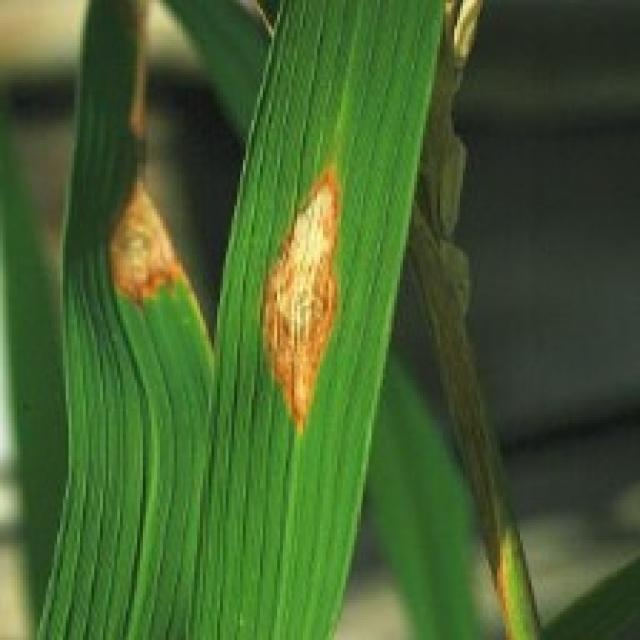Unhealthy: (260, 159, 344, 437), (108, 158, 186, 318), (130, 51, 149, 140)
